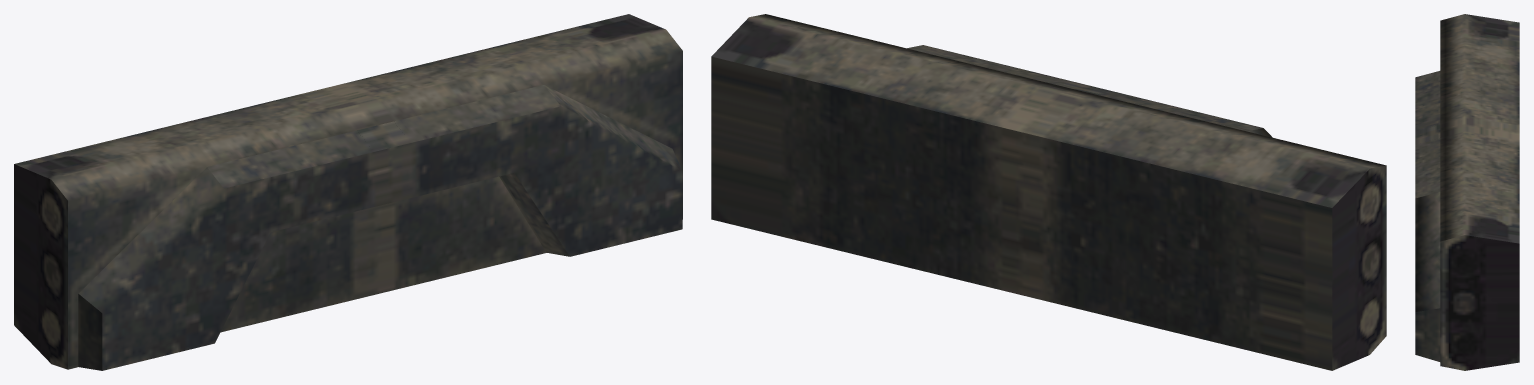
3 renders of one model, left to right at view 1: azimuth 30°, elevation 25°; view 2: azimuth 150°, elevation 25°; view 3: azimuth 270°, elevation 25°, orthographic. The views are drawn at different scales.
Visible parts, largest first — view 1: set_0_group_0; view 2: set_0_group_0; view 3: set_0_group_0.
Boxes of the visible parts, x1=… form: set_0_group_0: x1=14, y1=14, x2=682, y2=370; set_0_group_0: x1=711, y1=14, x2=1386, y2=370; set_0_group_0: x1=1415, y1=14, x2=1519, y2=370.
Bounding box in the file's own units: 0.6164 × 0.1767 × 0.1232.
1 material, 1 textured.
